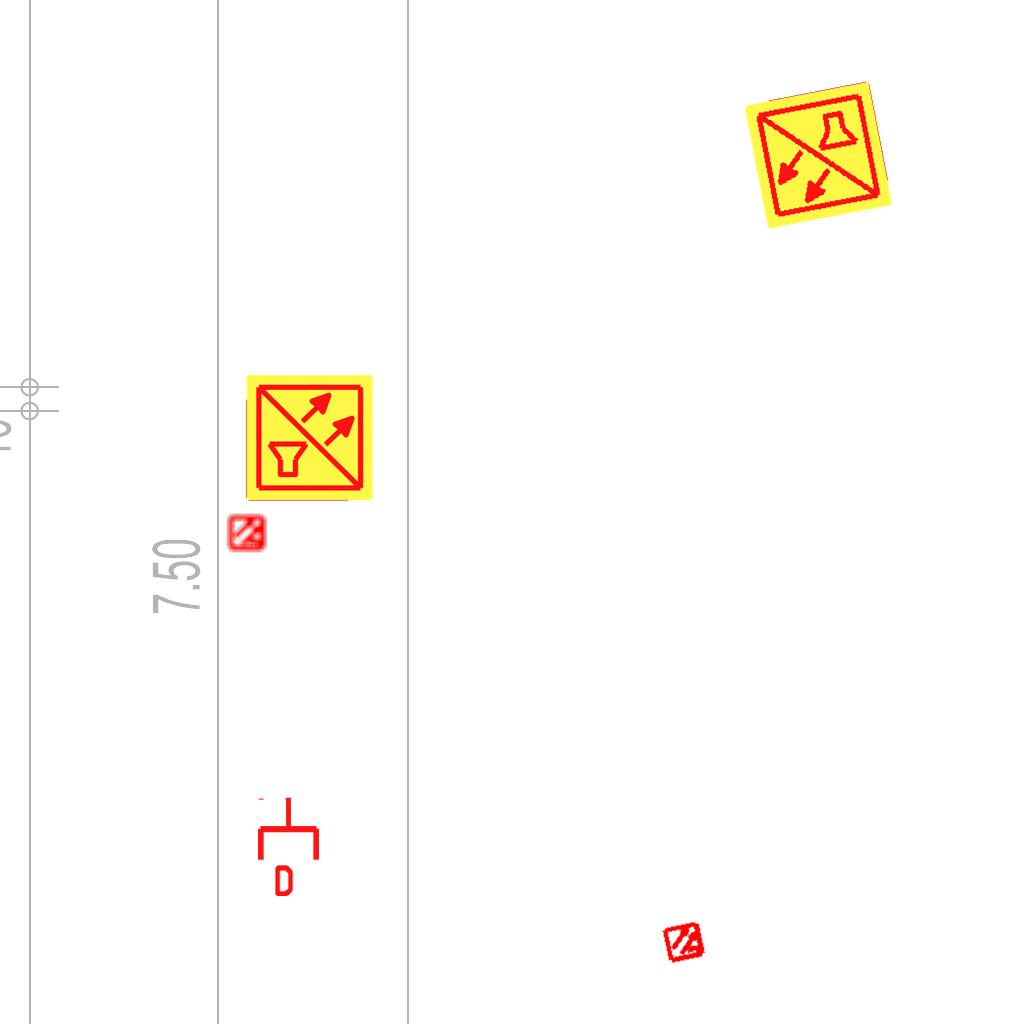Datenanschluss_einfach: (254, 796, 323, 896)
OKW_Multisensormelder_(Kombination_optischer_Rauch-Kahlenmonoxid_Waerme-Melder): (740, 77, 896, 233), (244, 372, 376, 504)
OT_Multisensormelder_(Kombination_RMO_WMD): (651, 908, 719, 976), (220, 505, 276, 561)
